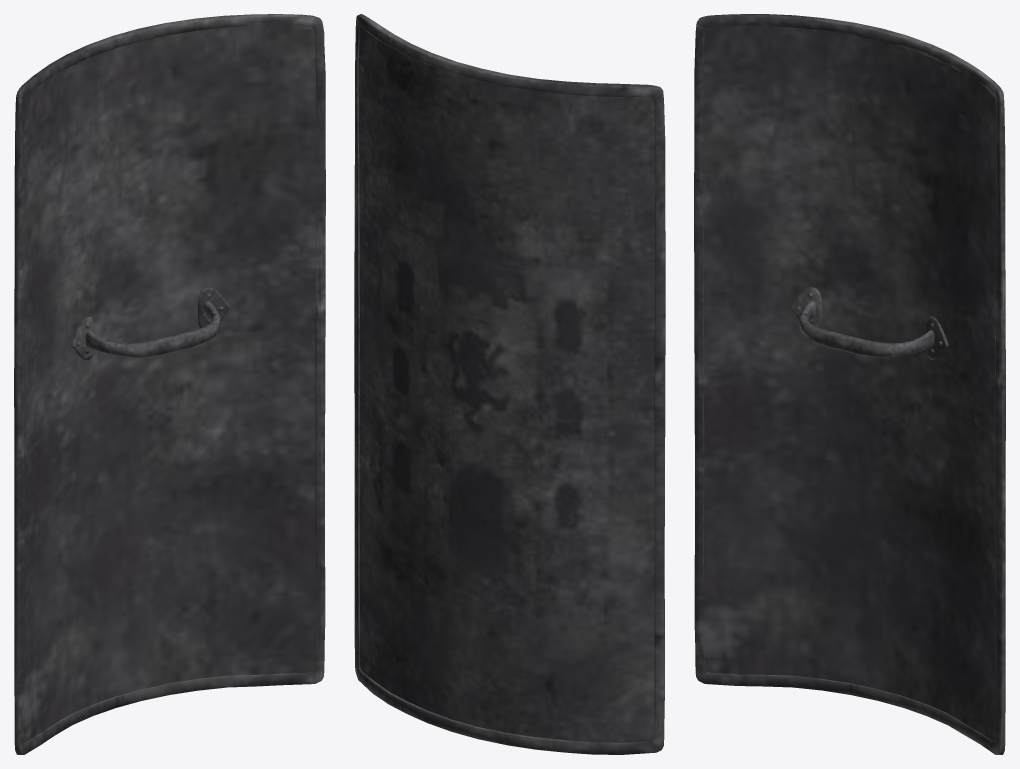
Rendered from weapon-wp_a_2218.glb.
3 views of the same model, side by side, from view 1: azimuth 30°, elevation 25°; view 2: azimuth 150°, elevation 25°; view 3: azimuth 330°, elevation 25° (orthographic).
Visible parts, largest first — view 1: wp_a_2218_mesh; view 2: wp_a_2218_mesh; view 3: wp_a_2218_mesh.
Part boxes in pixels (x1,y1,x2,y2): wp_a_2218_mesh: (14,14,325,754); wp_a_2218_mesh: (354,14,665,754); wp_a_2218_mesh: (694,14,1005,754).
Bounding box in the file's own units: 0.6047 × 1.24 × 0.1322.
1 material, 1 textured.
